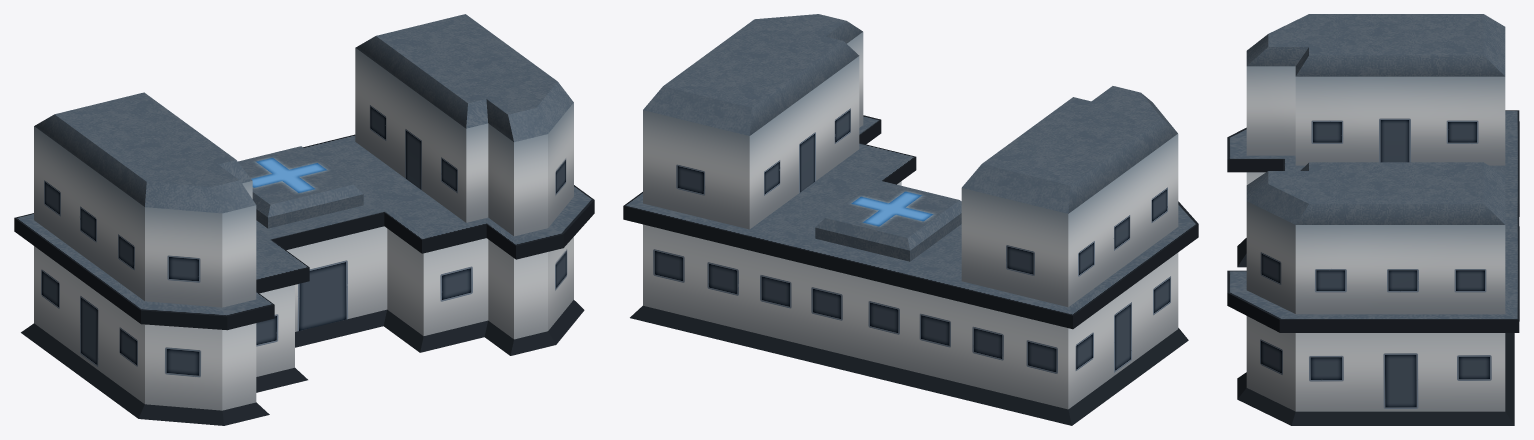
The model's file is Medical House.fbx.
3 renders of one model, left to right at view 1: azimuth 30°, elevation 25°; view 2: azimuth 150°, elevation 25°; view 3: azimuth 270°, elevation 25°, orthographic. The views are drawn at different scales.
Parts seen in each view (by area): view 1: Main, Roof; view 2: Main, Roof; view 3: Main.
Boxes of the visible parts, x1=… form: Main: x1=14, y1=14, x2=594, y2=425; Roof: x1=238, y1=146, x2=363, y2=228; Main: x1=623, y1=14, x2=1198, y2=425; Roof: x1=815, y1=180, x2=961, y2=261; Main: x1=1227, y1=14, x2=1519, y2=425.
Bounding box in the file's own units: 10.58 × 5.04 × 6.24.
